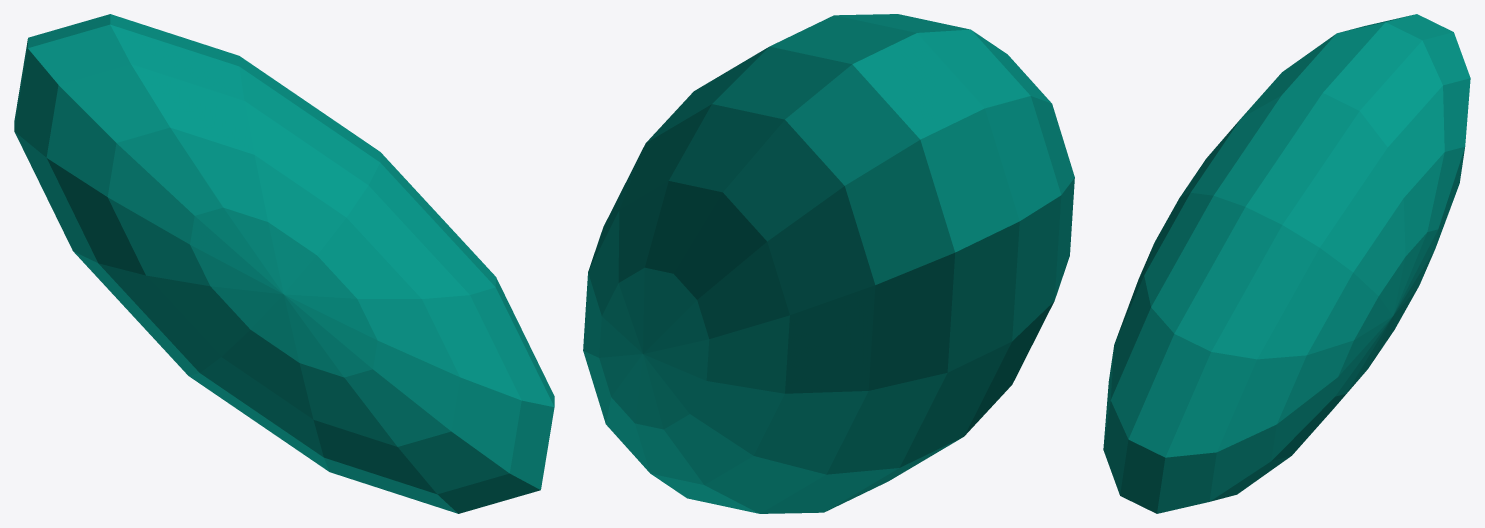
Rendered from n5_group81883502_lev5.001.glb.
3 views of the same model, side by side, from view 1: azimuth 30°, elevation 25°; view 2: azimuth 150°, elevation 25°; view 3: azimuth 270°, elevation 25° (orthographic). The views are drawn at different scales.
Parts seen in each view (by area): view 1: n5_group81883502_lev5.001; view 2: n5_group81883502_lev5.001; view 3: n5_group81883502_lev5.001.
Part boxes in pixels (box(x1,y1,x2,y2)): n5_group81883502_lev5.001: box(14, 14, 554, 513); n5_group81883502_lev5.001: box(583, 14, 1074, 513); n5_group81883502_lev5.001: box(1103, 14, 1470, 513).
Size of the model in its own units: 1.84 by 1.99 by 1.72.
